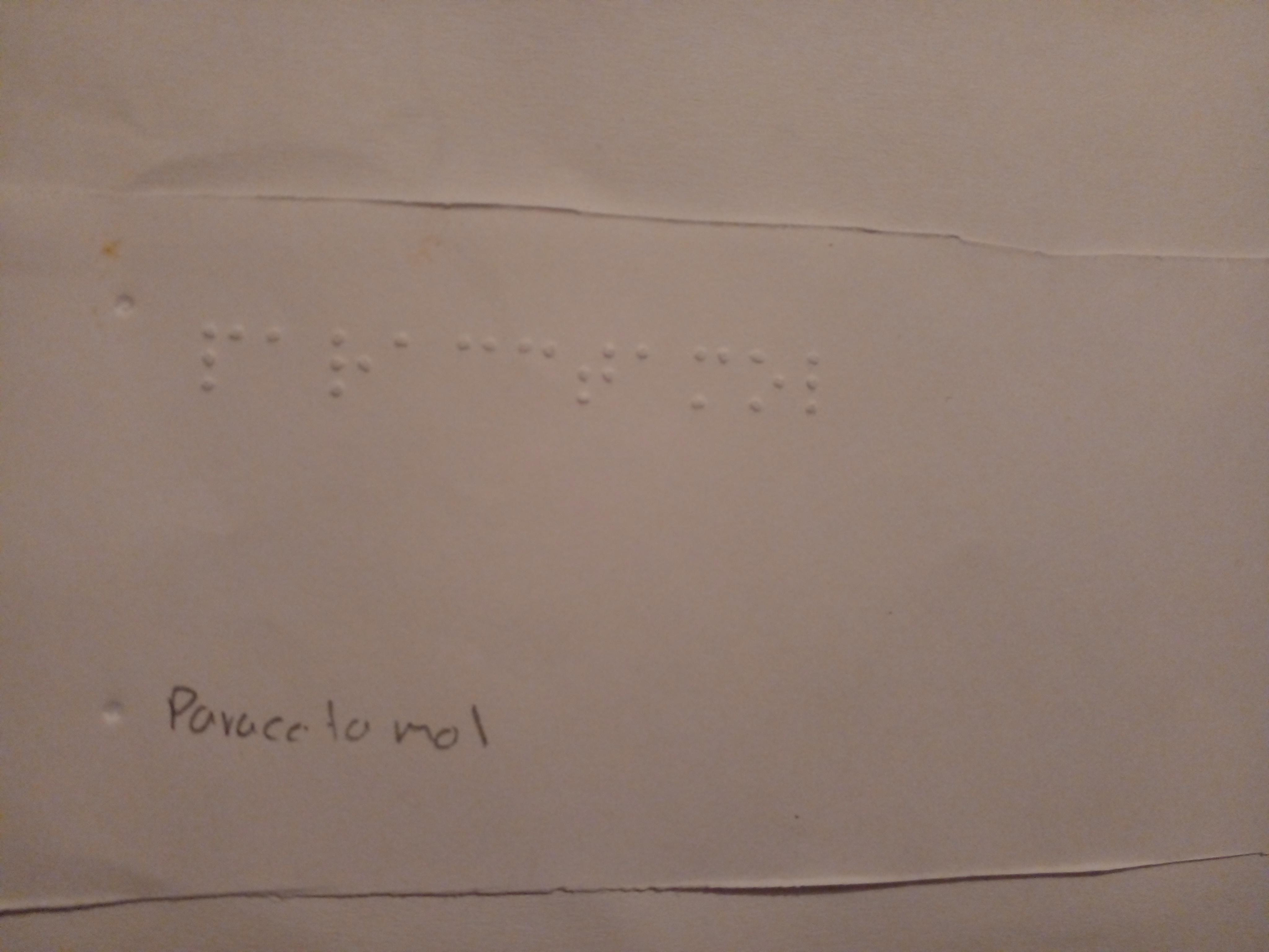a: (260, 318, 297, 378), (384, 322, 418, 386), (626, 338, 661, 386)
c: (514, 315, 562, 395), (459, 316, 507, 392)
l: (795, 339, 838, 434)
m: (691, 336, 736, 417)
o: (739, 341, 790, 421)
p: (195, 311, 248, 397)
r: (322, 321, 381, 406)
t: (576, 328, 618, 417)
